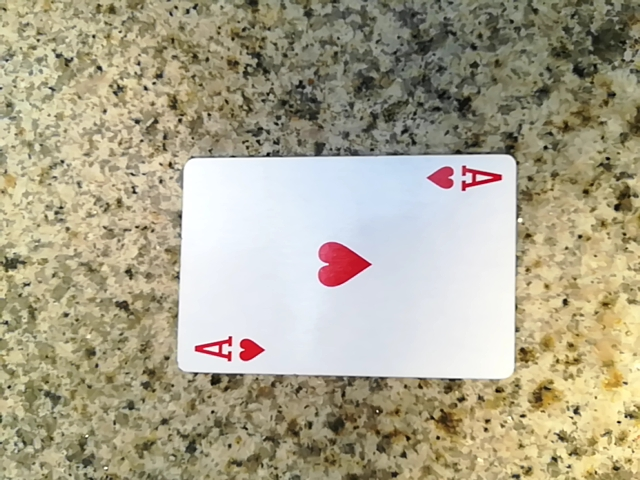hx a: (167, 155, 514, 379)
